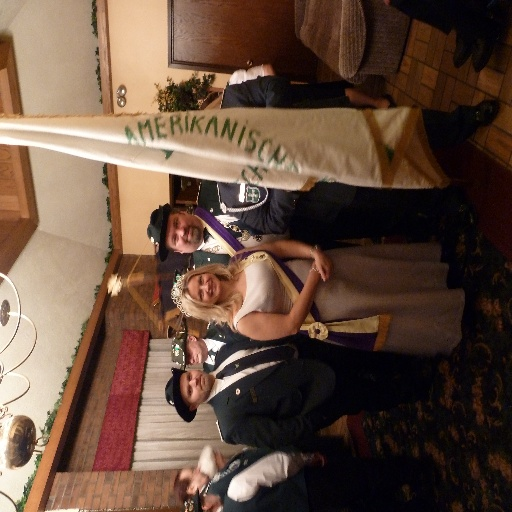hand: (313, 249, 332, 282), (384, 0, 389, 5)
